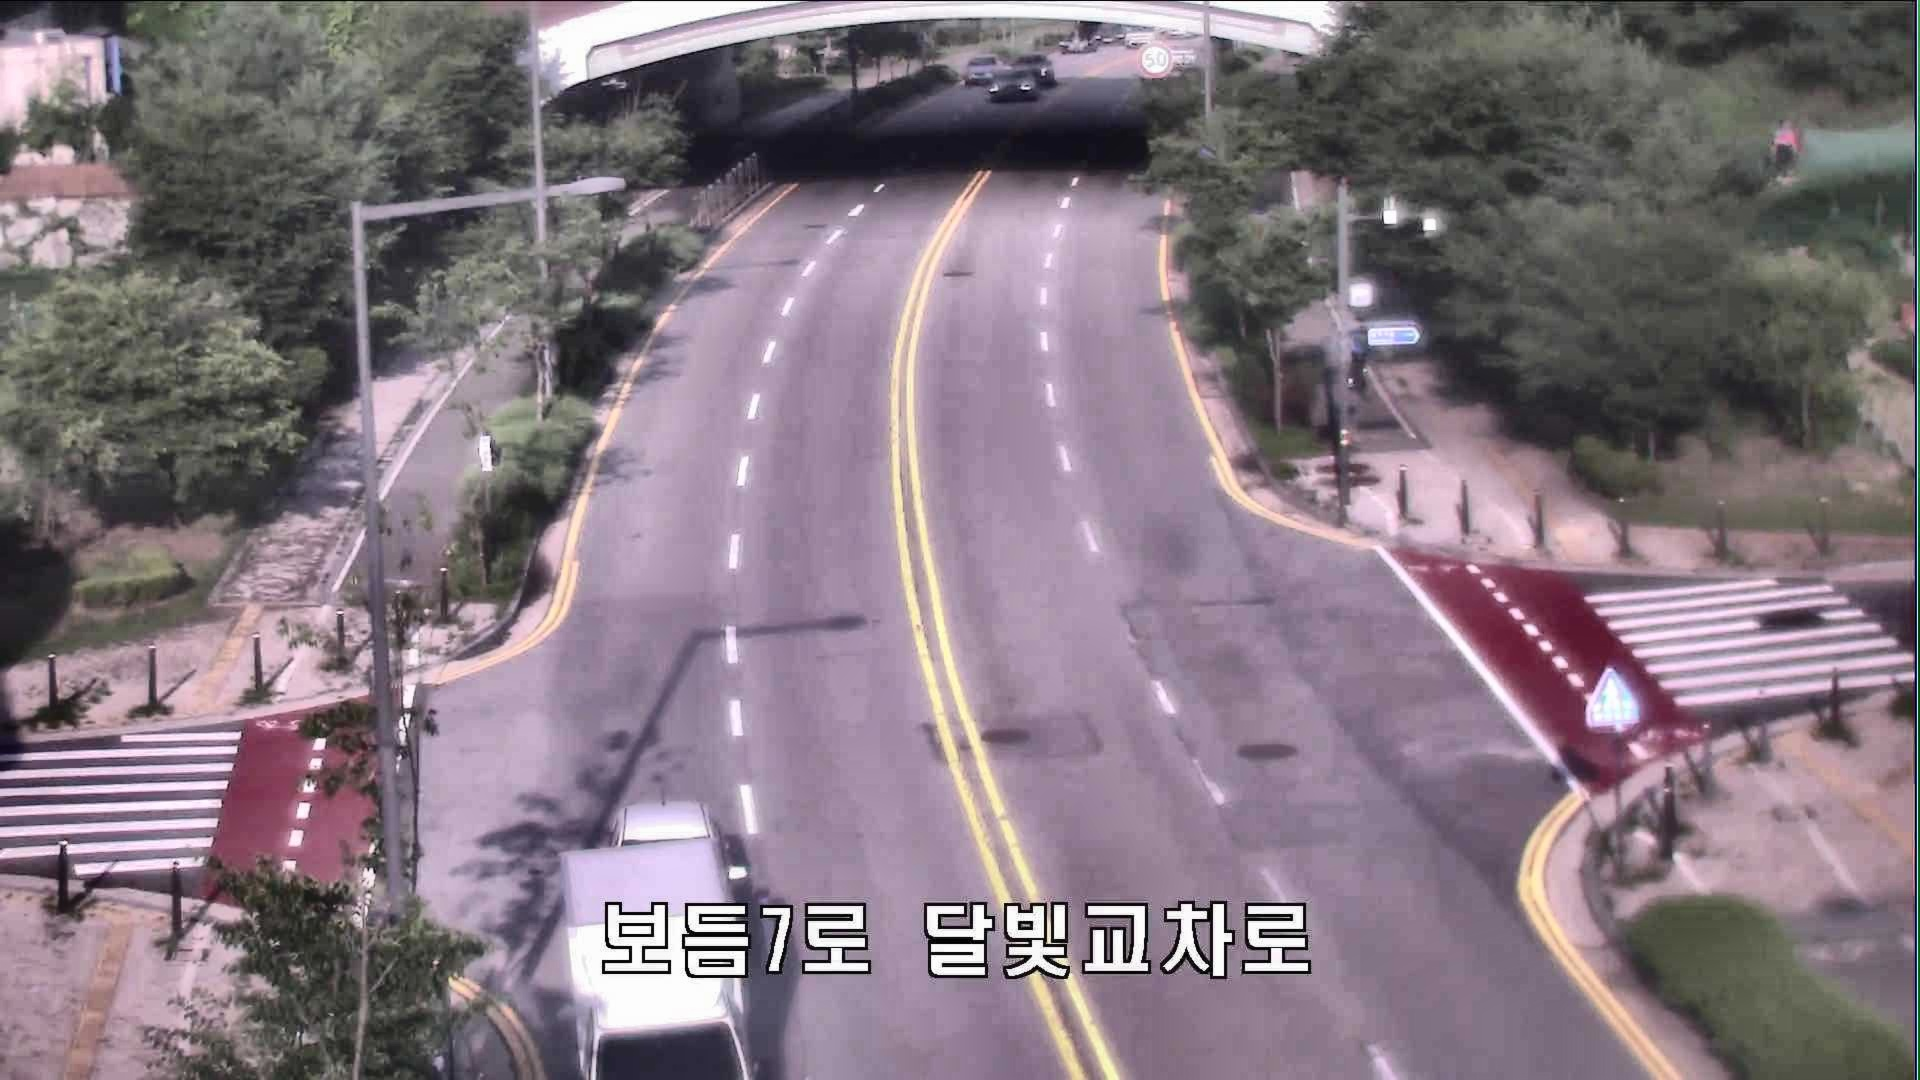sidewalk: (1350, 315, 1371, 392)
